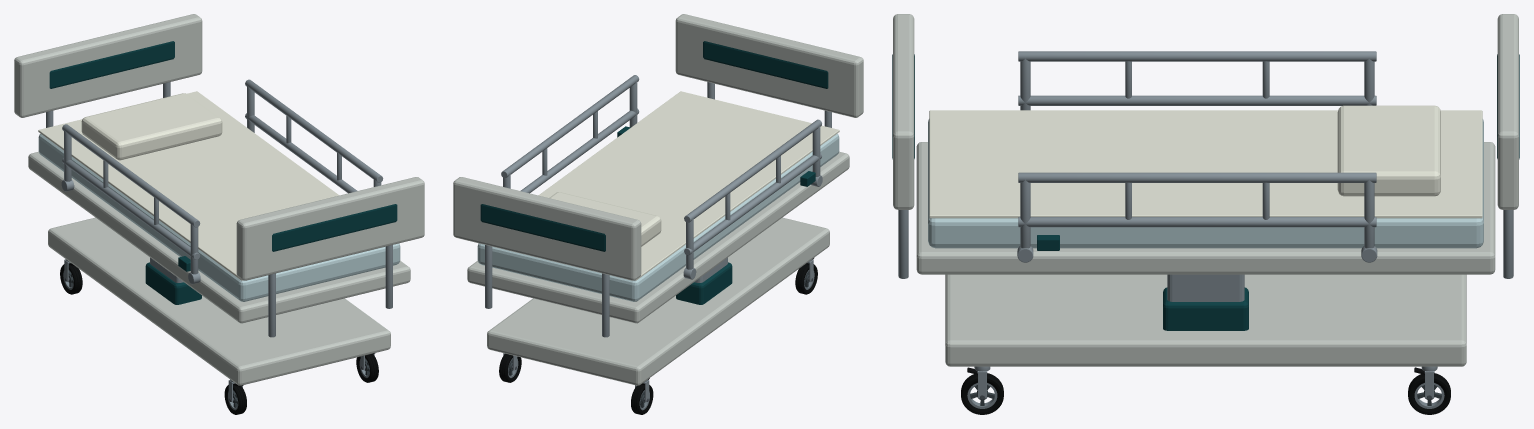
File: asset.fbx
The picture shows the model from 3 angles, left to right: view 1: azimuth 30°, elevation 25°; view 2: azimuth 150°, elevation 25°; view 3: azimuth 270°, elevation 25°; orthographic projection. The views are drawn at different scales.
Visible parts, largest first — view 1: radcare_patient_bed, radcare_patient_bed_chassis, radcare_patient_bed_sheet_top, radcare_patient_bed_deck, radcare_patient_bed_mattress, radcare_patient_bed_pillow, radcare_patient_bed_caster_2_tire, radcare_patient_bed_caster_0_tire, radcare_patient_bed_caster_1_tire; view 2: radcare_patient_bed, radcare_patient_bed_sheet_top, radcare_patient_bed_chassis, radcare_patient_bed_deck, radcare_patient_bed_mattress, radcare_patient_bed_pillow, radcare_patient_bed_caster_0_tire, radcare_patient_bed_caster_2_tire, radcare_patient_bed_caster_3_tire; view 3: radcare_patient_bed_sheet_top, radcare_patient_bed_chassis, radcare_patient_bed, radcare_patient_bed_deck, radcare_patient_bed_mattress, radcare_patient_bed_pillow, radcare_patient_bed_caster_1_tire, radcare_patient_bed_caster_3_tire.
Boxes of the visible parts, <box> form: radcare_patient_bed: <box>14,14,424,402</box>; radcare_patient_bed_chassis: <box>48,217,390,385</box>; radcare_patient_bed_sheet_top: <box>38,91,339,280</box>; radcare_patient_bed_deck: <box>28,151,410,323</box>; radcare_patient_bed_mattress: <box>38,133,400,301</box>; radcare_patient_bed_pillow: <box>81,93,222,160</box>; radcare_patient_bed_caster_2_tire: <box>60,264,82,294</box>; radcare_patient_bed_caster_0_tire: <box>224,384,246,414</box>; radcare_patient_bed_caster_1_tire: <box>356,354,378,382</box>; radcare_patient_bed: <box>453,14,863,402</box>; radcare_patient_bed_sheet_top: <box>538,91,839,280</box>; radcare_patient_bed_chassis: <box>487,217,829,385</box>; radcare_patient_bed_deck: <box>467,151,849,323</box>; radcare_patient_bed_mattress: <box>477,133,839,301</box>; radcare_patient_bed_pillow: <box>549,192,661,246</box>; radcare_patient_bed_caster_0_tire: <box>795,264,817,294</box>; radcare_patient_bed_caster_2_tire: <box>631,384,653,414</box>; radcare_patient_bed_caster_3_tire: <box>499,353,521,382</box>; radcare_patient_bed_sheet_top: <box>929,110,1482,218</box>; radcare_patient_bed_chassis: <box>945,274,1466,366</box>; radcare_patient_bed: <box>892,14,1519,398</box>; radcare_patient_bed_deck: <box>916,142,1495,274</box>; radcare_patient_bed_mattress: <box>928,119,1483,248</box>; radcare_patient_bed_pillow: <box>1337,105,1440,196</box>; radcare_patient_bed_caster_1_tire: <box>961,373,1003,414</box>; radcare_patient_bed_caster_3_tire: <box>1408,373,1450,414</box>.
Bounding box in the file's own units: 1.04 × 1.14 × 2.18.
